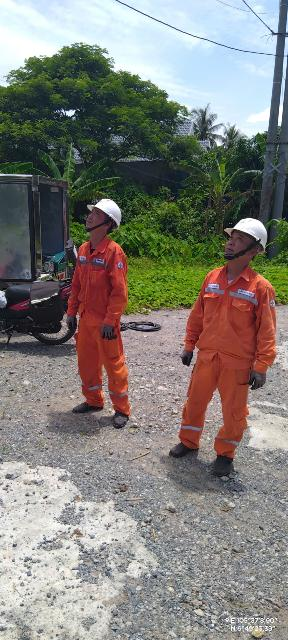gloves: (174, 344, 199, 370), (244, 367, 268, 393), (55, 311, 77, 334), (98, 321, 117, 344)
helmet: (222, 213, 272, 257), (82, 195, 128, 232)
shoes: (204, 453, 239, 478), (162, 431, 191, 456), (67, 393, 98, 416), (109, 406, 129, 428)
